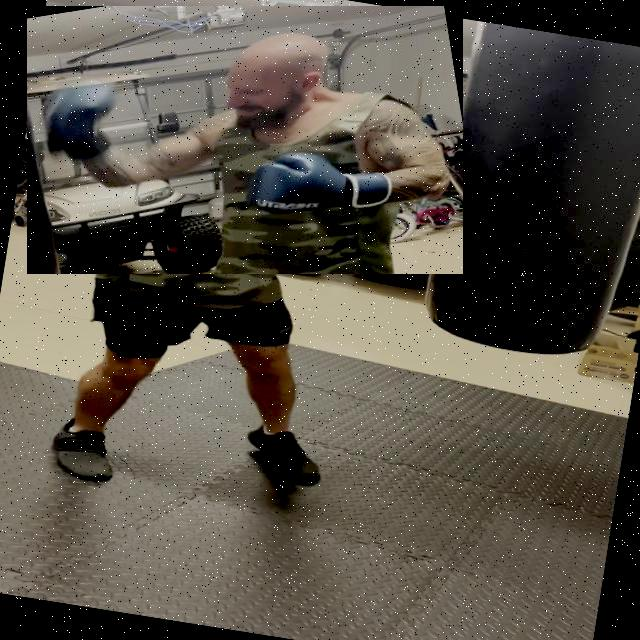punch: (27, 6, 463, 274)
